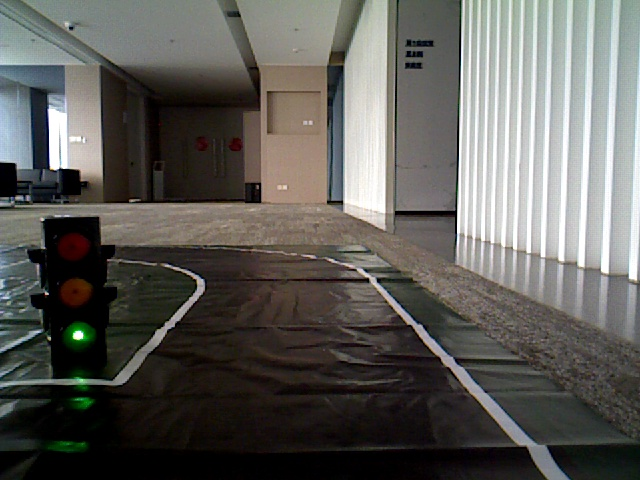green: (48, 220, 107, 356)
